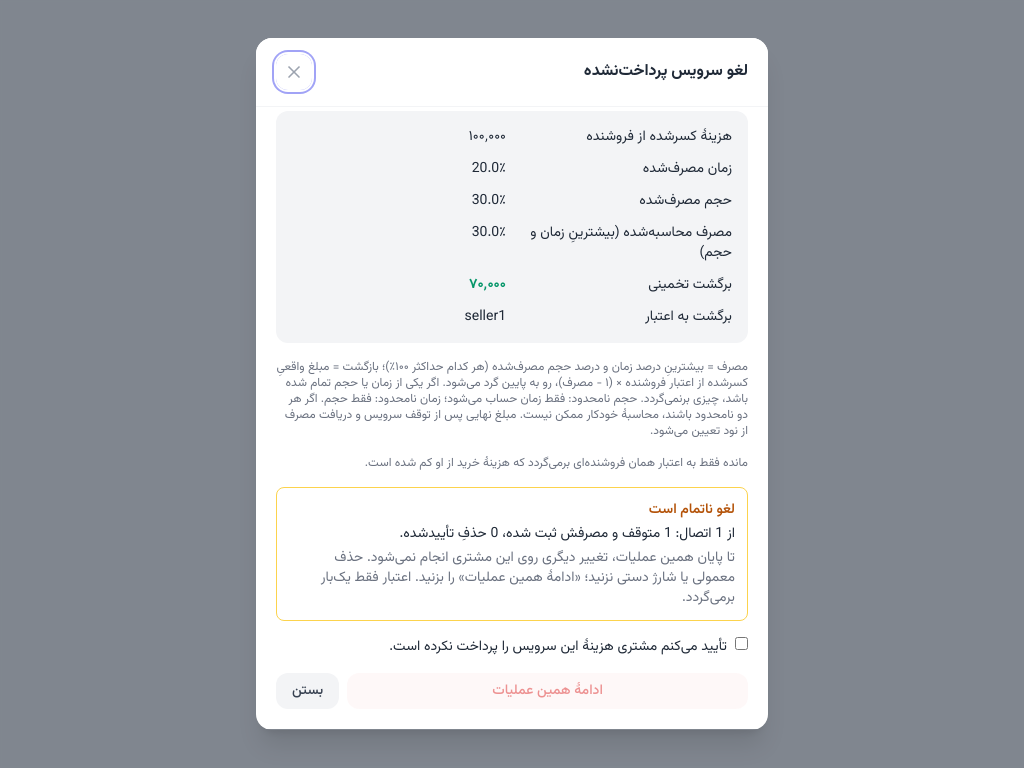
unpaid cancellation dialog › an operation left pending before a reload is shown with a resume button
(page scrolled)
Expected: the text "لغو ناتمام است" is shown, [649, 499, 735, 521]
Click the checkbox labelled "تأیید می‌کنم مشتری هزینهٔ این سرویس را پرداخت نکرده است.": (742, 644) [735, 637, 748, 650]
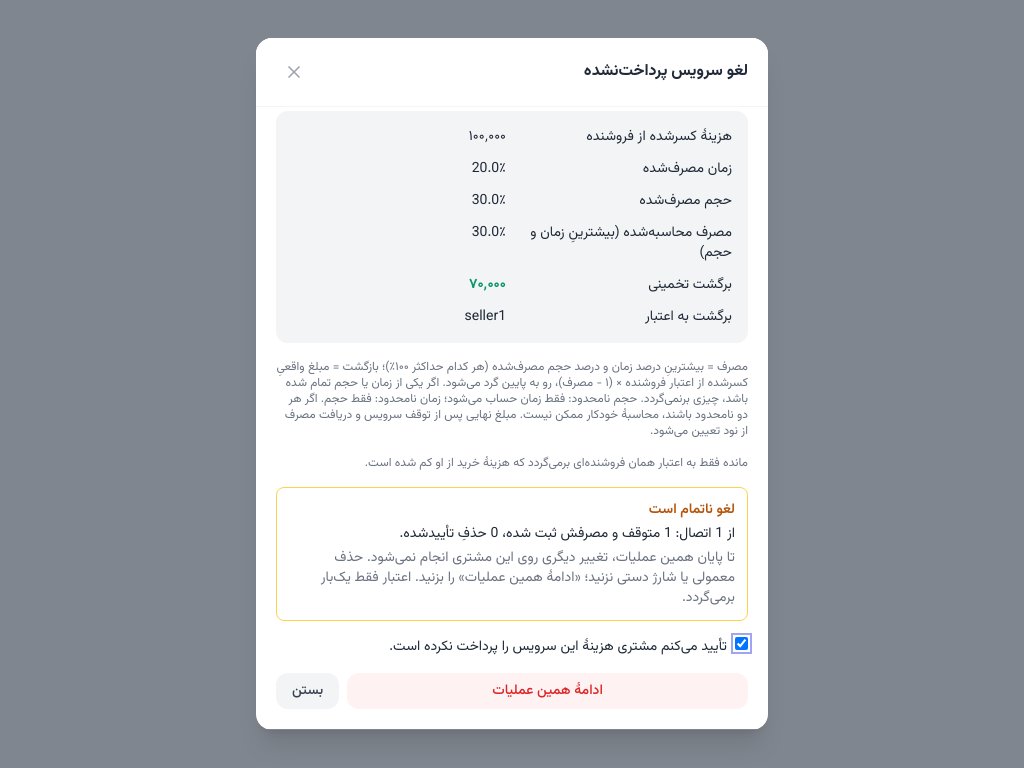
Expected: the button "ادامهٔ همین عملیات" is enabled, [347, 673, 748, 709]
